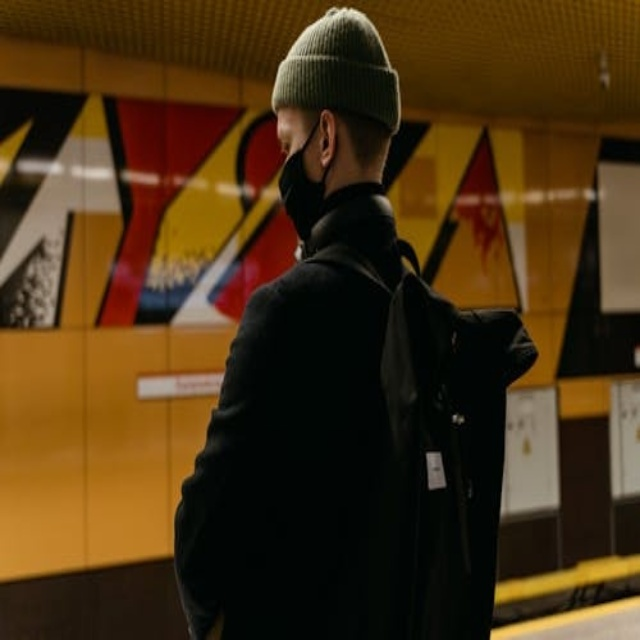Mascara: (279, 122, 330, 246)
Sin_gafas: (270, 111, 301, 161)
